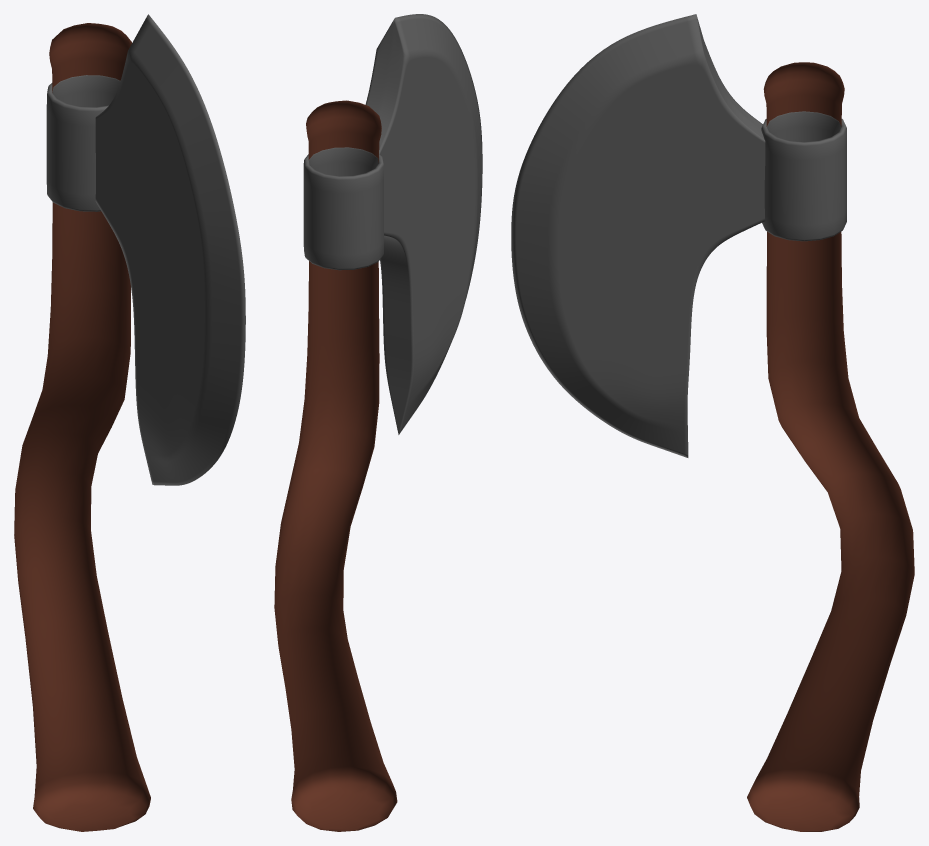
Rendered from axe.fbx.
3 renders of one model, left to right at view 1: azimuth 30°, elevation 25°; view 2: azimuth 150°, elevation 25°; view 3: azimuth 270°, elevation 25°, orthographic. The views are drawn at different scales.
Visible parts, largest first — view 1: Circle.002, Plane.007, Circle.003; view 2: Circle.002, Plane.007, Circle.003; view 3: Plane.007, Circle.002, Circle.003.
Part boxes in pixels (x1,y1,x2,y2): Circle.002: (14, 23, 150, 831); Plane.007: (95, 14, 245, 485); Circle.003: (46, 75, 120, 211); Circle.002: (274, 100, 397, 831); Plane.007: (365, 14, 482, 434); Circle.003: (303, 147, 383, 270); Plane.007: (511, 14, 765, 457); Circle.002: (747, 62, 914, 831); Circle.003: (761, 111, 846, 241).
Size of the model in its own units: 44.99 by 352 by 160.
